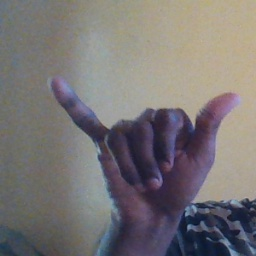J: (45, 68, 239, 230)
